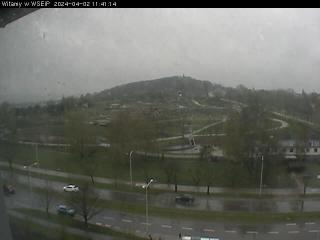car: (175, 192, 195, 206), (58, 204, 76, 218), (2, 184, 17, 196), (62, 183, 79, 193)
